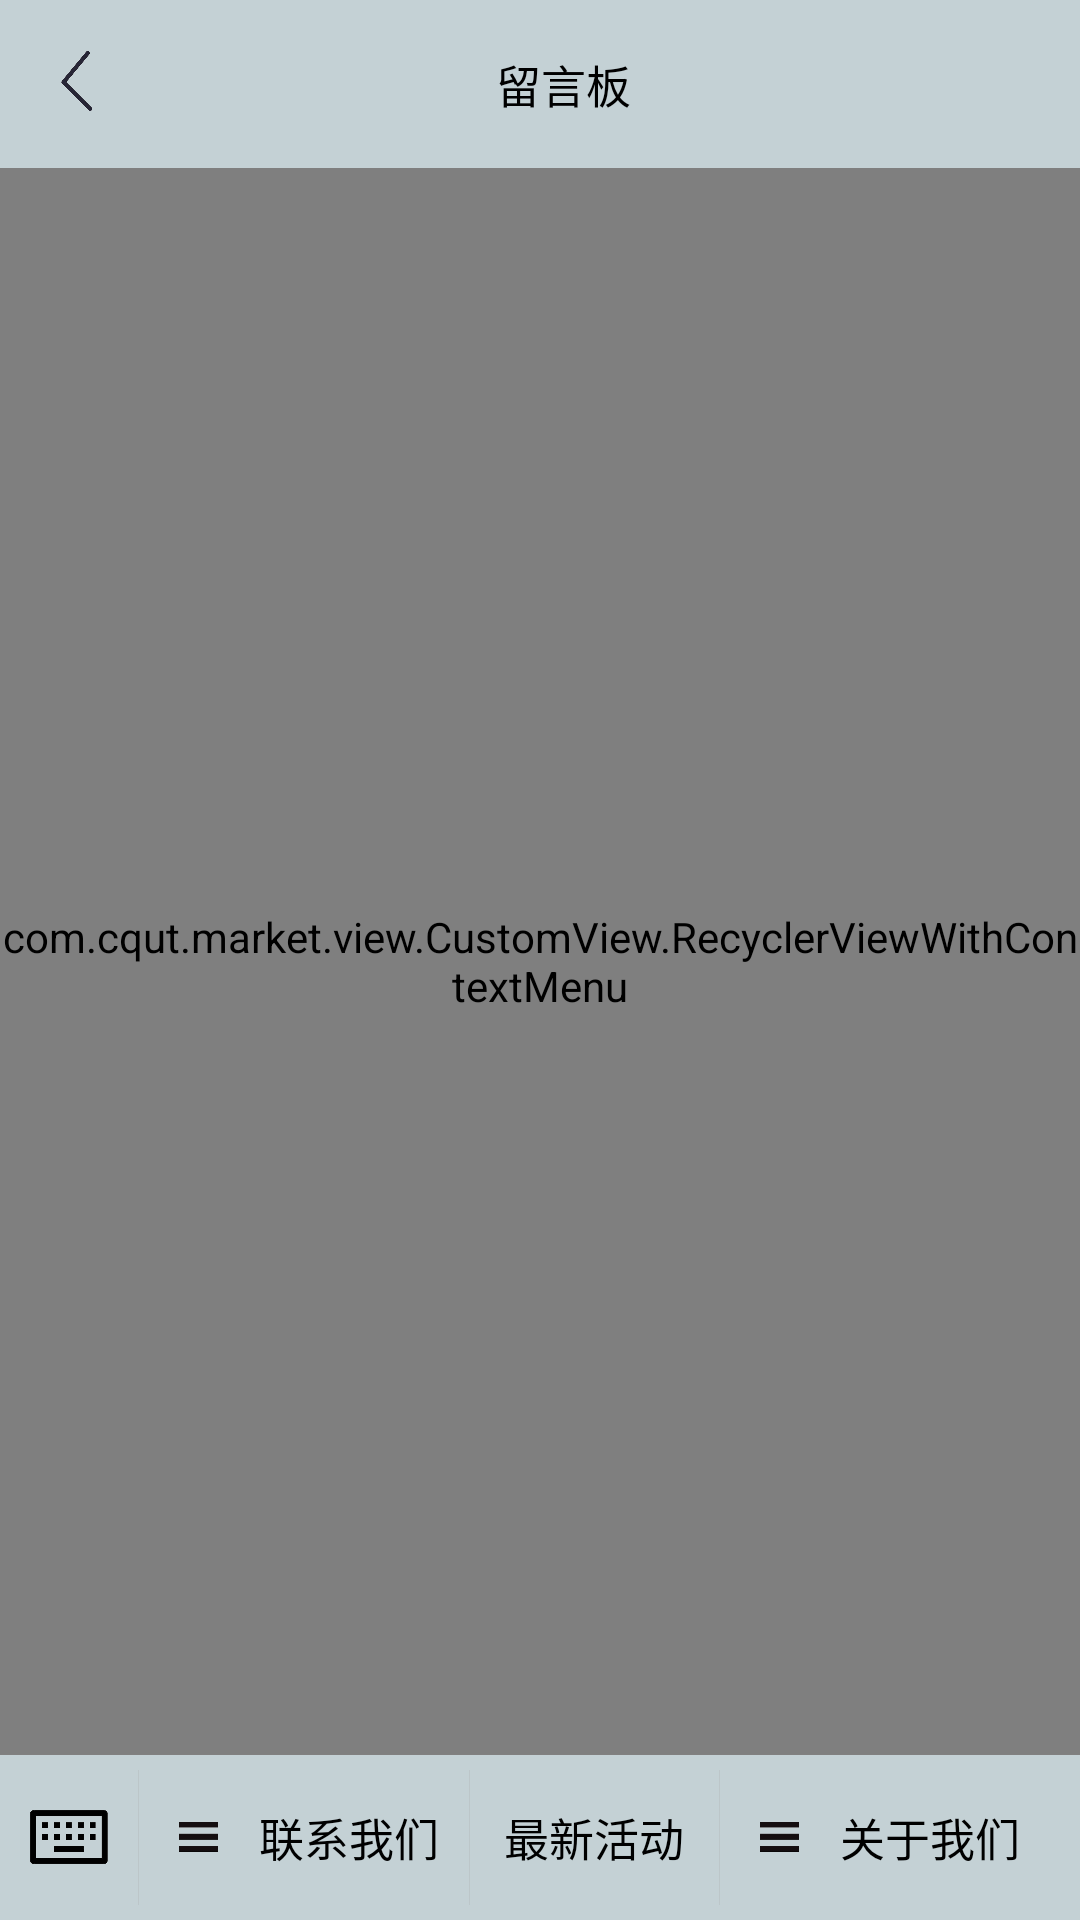

Icon bounding boxes for this 1080px×1920px phone screenshot, format (x1, y1, x2, y2):
back: (61, 51, 92, 111)
keybord: (30, 1810, 108, 1864)
liebiao: (179, 1822, 218, 1852), (760, 1822, 799, 1852)
